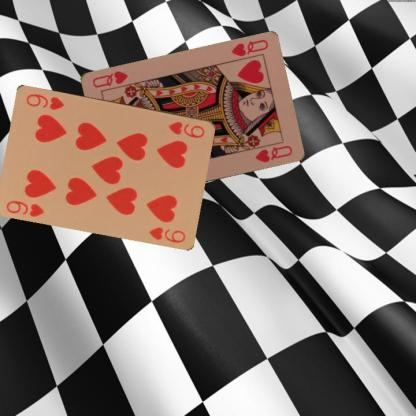9h: (166, 118, 206, 140), (4, 198, 46, 218)
Qh: (229, 37, 270, 58)
